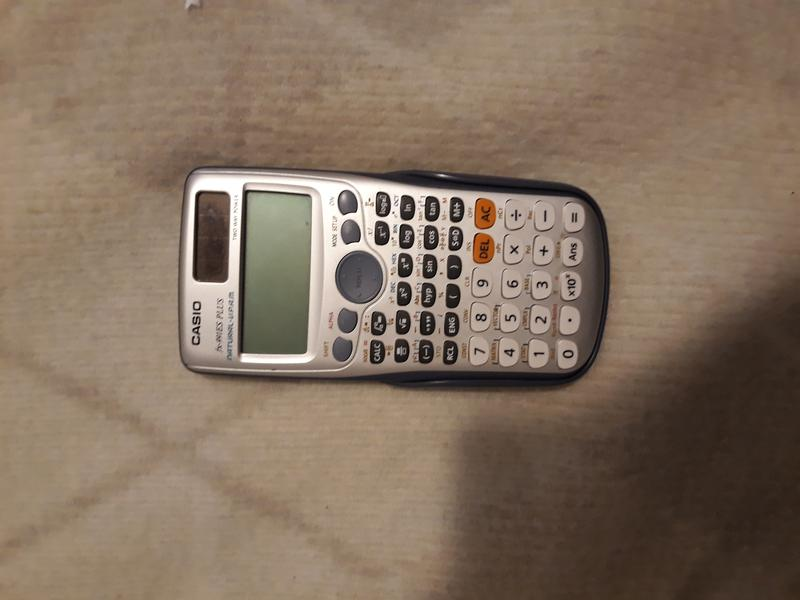CASIO_fx_991ES_PLUS: (169, 153, 624, 402)
